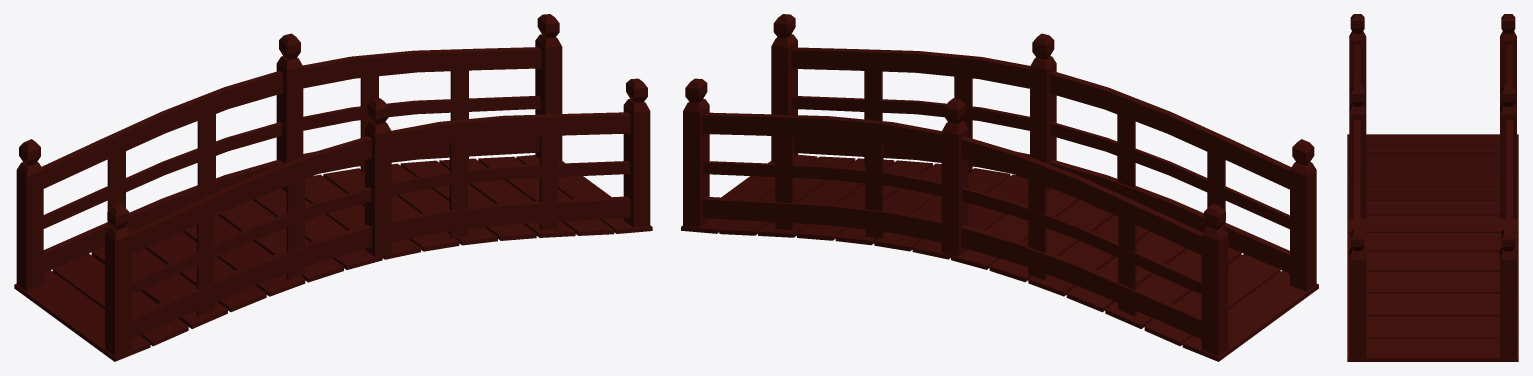
The model's file is JPbridge.fbx.
3 renders of one model, left to right at view 1: azimuth 30°, elevation 25°; view 2: azimuth 150°, elevation 25°; view 3: azimuth 270°, elevation 25°, orthographic. The views are drawn at different scales.
Parts seen in each view (by area): view 1: Cube.031; view 2: Cube.031; view 3: Cube.031.
Boxes of the visible parts, box(x1,y1,x2,y2) form: Cube.031: box(14, 14, 652, 361); Cube.031: box(681, 14, 1318, 361); Cube.031: box(1347, 14, 1518, 361).
Bounding box in the file's own units: 902 × 307 × 292.
